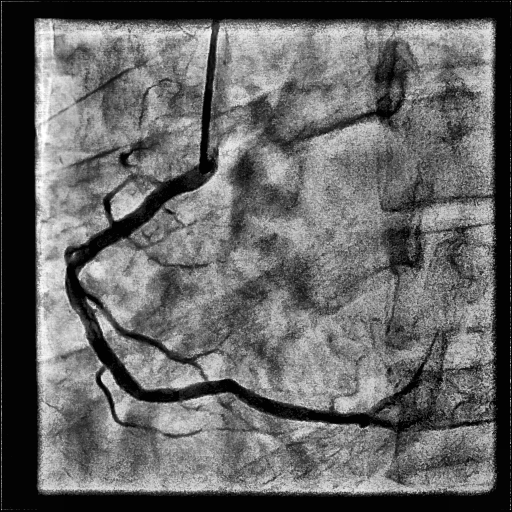pda: (365, 413, 501, 431)
rca: (65, 162, 369, 425)
